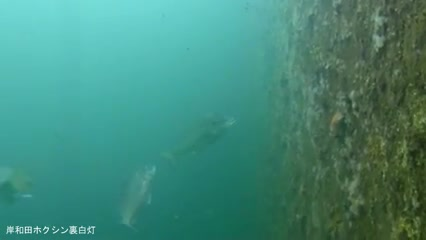smallfish: (114, 162, 163, 236)
